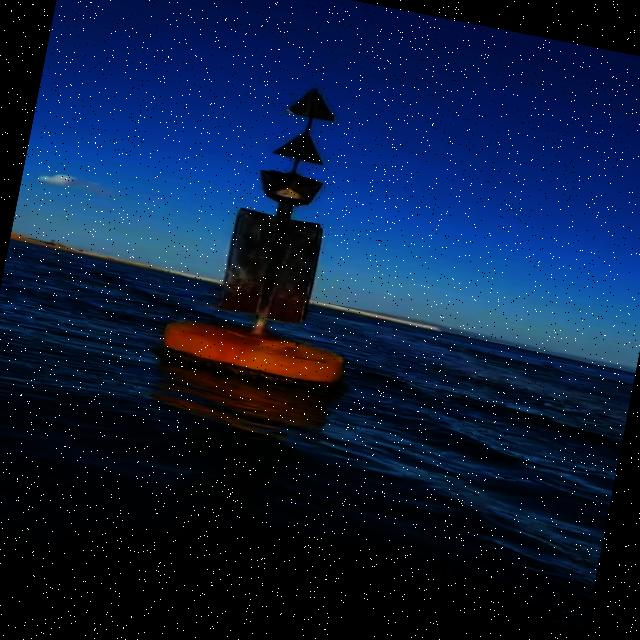marque: (158, 63, 404, 405)
